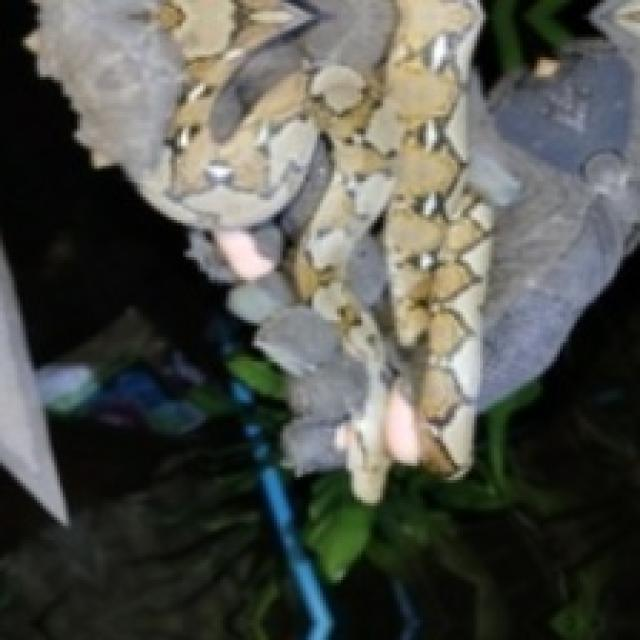reticulated python: (142, 0, 492, 503)
